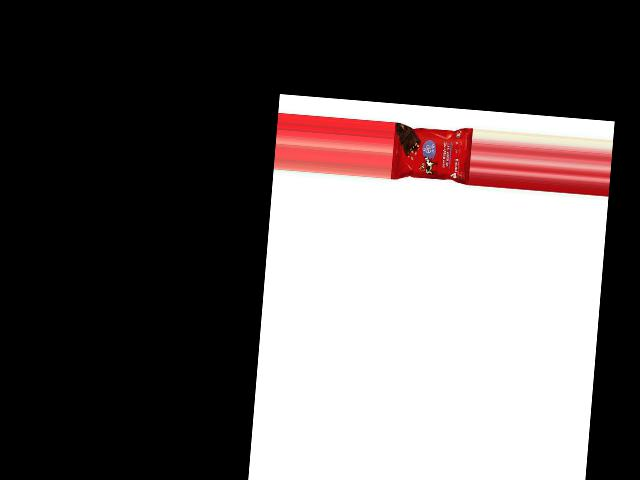chocolate: (391, 121, 473, 183)
